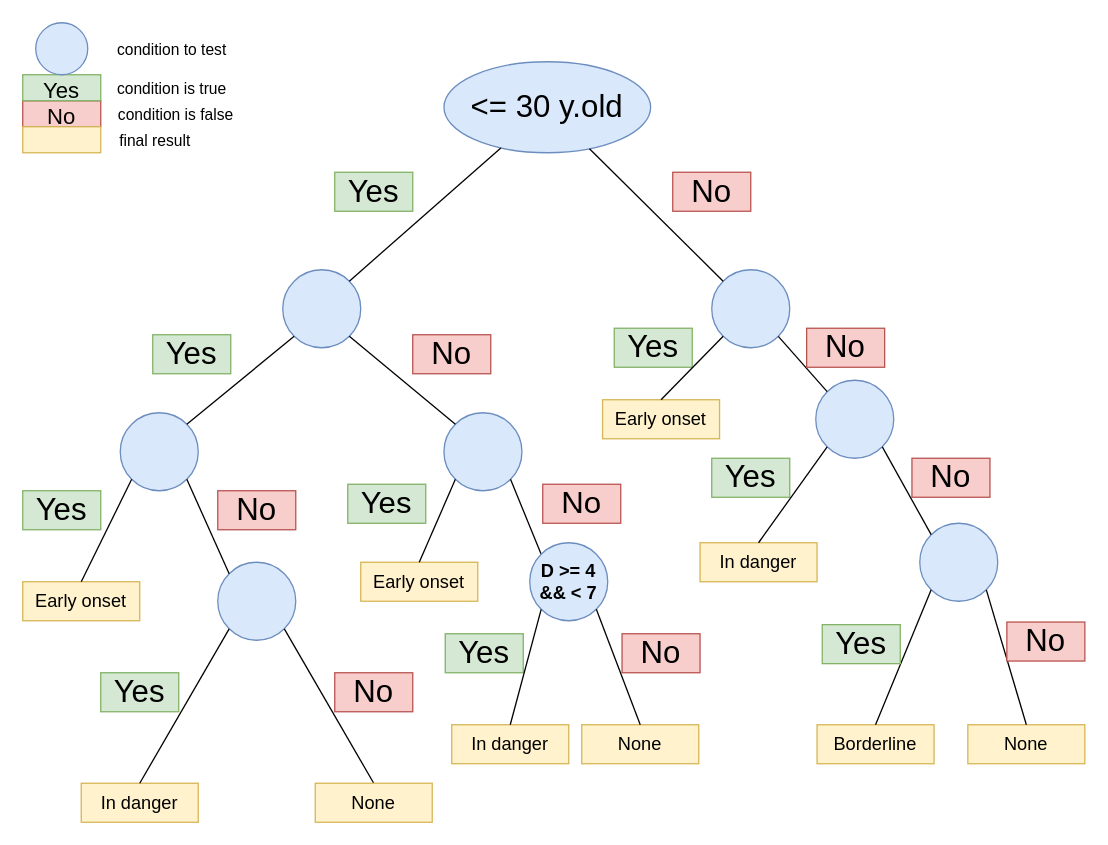
The diagram is 1108 pixels wide and 845 high, and some of its shapes have lost their labels. Each missing label, with the box of its shape:
D >= 2 && < 6: (918, 522, 998, 601)
D >= 3 && < 5: (216, 561, 296, 640)
D >= 5: (119, 411, 198, 491)
D >= 6 && < 8: (814, 379, 894, 458)
D >= 7: (443, 411, 522, 491)
D >= 8: (710, 268, 790, 348)
Male ?: (281, 268, 361, 348)
